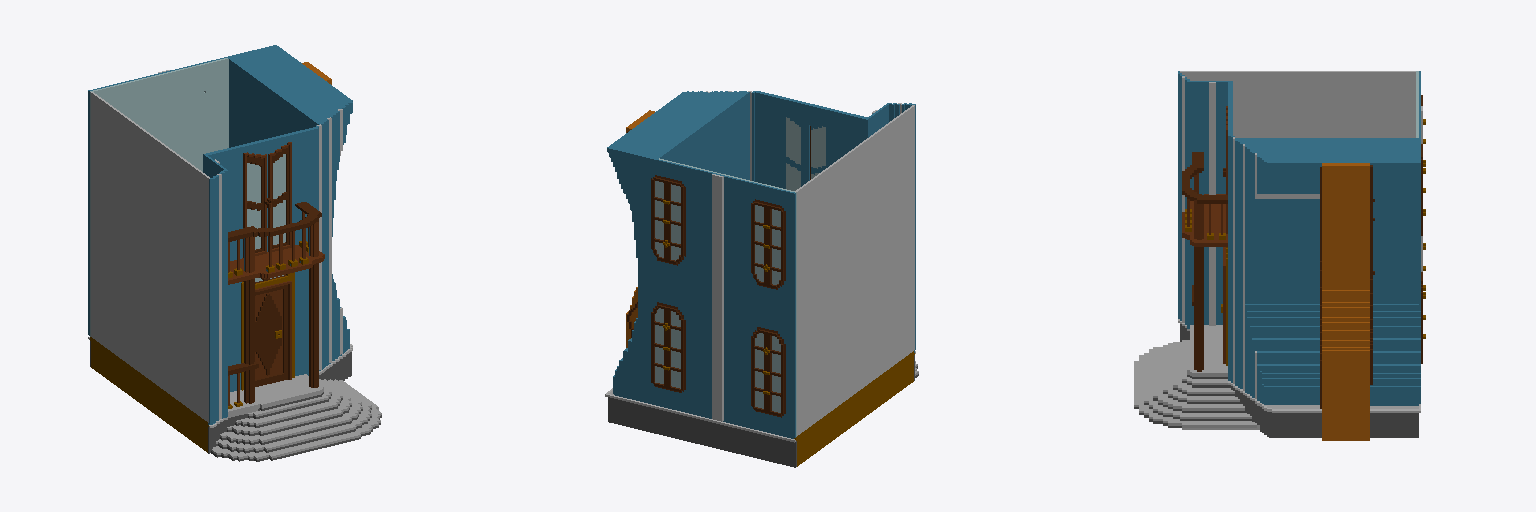
3 renders of one model, left to right at view 1: azimuth 30°, elevation 25°; view 2: azimuth 150°, elevation 25°; view 3: azimuth 270°, elevation 25°, orthographic.
Parts seen in each view (by area): view 1: casa-2; view 2: casa-2; view 3: casa-2.
Boxes of the visible parts, box(x1,y1,x2,y2) form: casa-2: box(88, 45, 381, 461); casa-2: box(605, 91, 918, 467); casa-2: box(1134, 71, 1425, 440).
Size of the model in its own units: 93 by 126 by 121.
Materials: 1 (1 with a texture image).